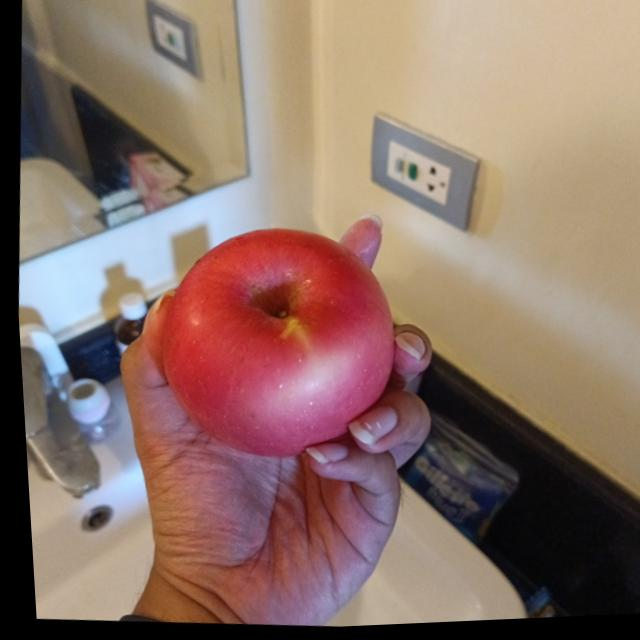apple: (145, 220, 403, 469)
